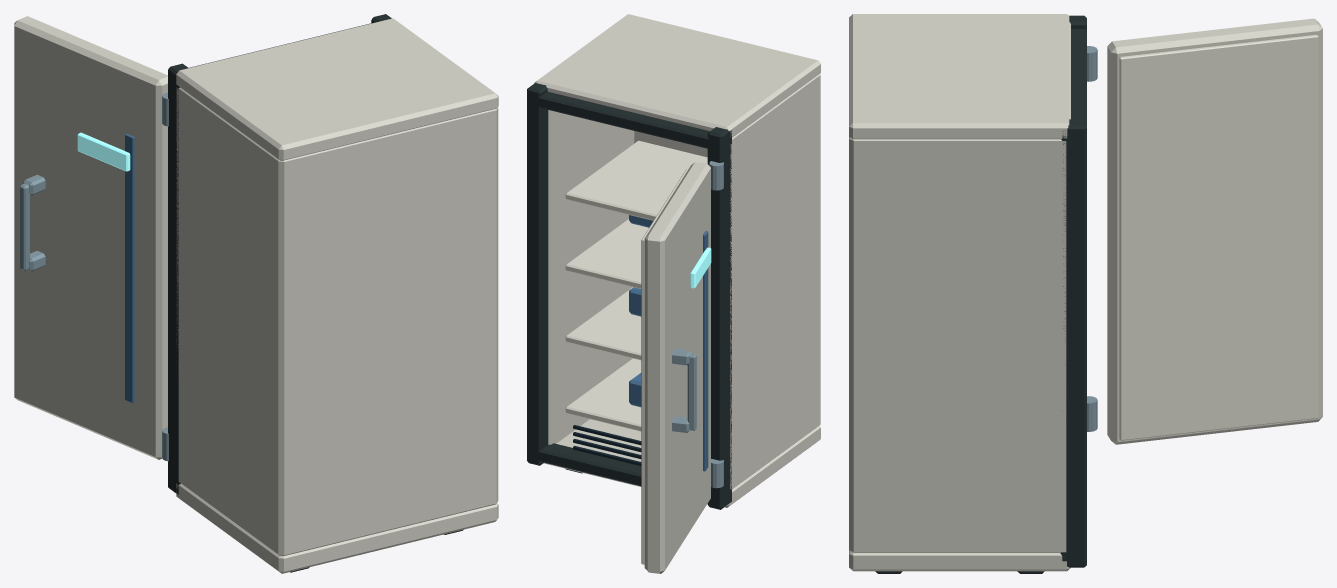
File: laboratory_specimen_freezer_opened.glb
3 views of the same model, side by side, from view 1: azimuth 30°, elevation 25°; view 2: azimuth 150°, elevation 25°; view 3: azimuth 270°, elevation 25° (orthographic). The views are drawn at different scales.
Visible parts, largest first — view 1: body_back_wall, moving_door, body_side_wall (×2), body_roof, body_floor, front_side_frame, moving_vertical_stripe, moving_temp_display, moving_handle_grip; view 2: body_side_wall (×2), moving_door, body_roof, front_side_frame (×2), interior_shelf (×4), front_cross_frame (×2), body_floor, body_back_wall, moving_inner_panel, moving_vertical_stripe, moving_handle_grip, moving_temp_display (+2 smaller); view 3: body_side_wall, moving_inner_panel, body_roof, moving_door, front_side_frame, body_floor, body_back_wall, front_cross_frame.
Boxes of the visible parts, x1,y1,x2,y2 form: body_back_wall: (272,109,496,554); moving_door: (14,16,167,459); body_side_wall (×2): (176,87,498,556); body_roof: (176,18,498,160); body_floor: (176,483,498,573); front_side_frame: (168,63,188,494); moving_vertical_stripe: (125,133,134,403); moving_temp_display: (77,132,130,171); moving_handle_grip: (20,183,29,270); body_side_wall (×2): (548,74,820,489); moving_door: (644,162,710,573); body_roof: (534,14,820,137); front_side_frame (×2): (527,82,731,509); interior_shelf (×4): (565,140,707,431); front_cross_frame (×2): (527,91,731,504); body_floor: (544,419,820,507); body_back_wall: (634,74,820,428); moving_inner_panel: (641,168,688,564); moving_vertical_stripe: (703,231,708,471); moving_handle_grip: (687,353,696,430); moving_temp_display: (690,247,711,288); body_side_wall: (849,137,1066,552); moving_inner_panel: (1119,34,1318,440); body_roof: (849,14,1070,139); moving_door: (1107,18,1322,444); front_side_frame: (1061,119,1086,567); body_floor: (849,550,1070,571); body_back_wall: (853,139,867,552); front_cross_frame: (1061,29,1086,144).
Size of the model in its own units: 1.23 by 1.86 by 1.73.
